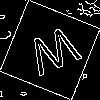W: (25, 25, 86, 85)
